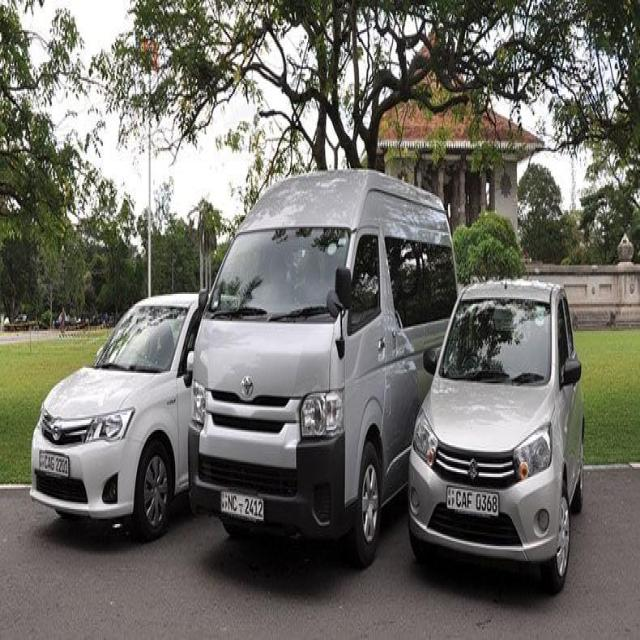license-plate: (446, 482, 498, 514), (220, 489, 264, 521), (38, 447, 68, 475)
